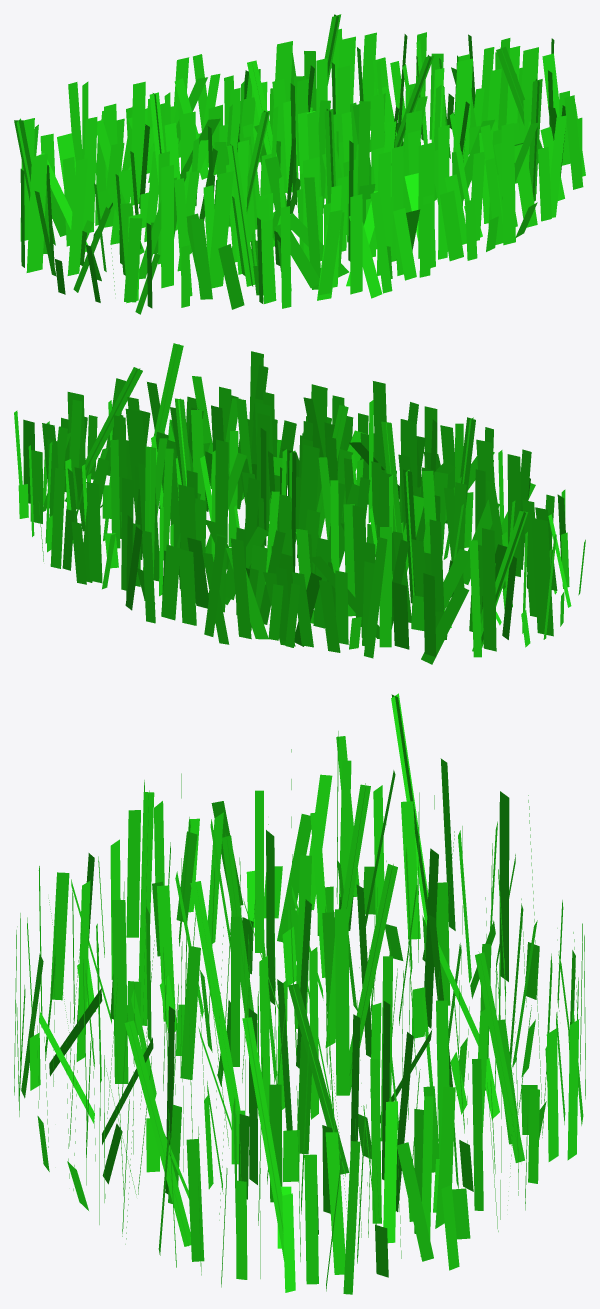
File: grass.obj
3 renders of one model, top to bottom at view 1: azimuth 30°, elevation 25°; view 2: azimuth 150°, elevation 25°; view 3: azimuth 270°, elevation 25°, orthographic. The views are drawn at different scales.
Parts seen in each view (by area): view 1: grass; view 2: grass; view 3: grass.
Part boxes in pixels (left/top/right/bottom): grass: left=14, top=14, right=585, bottom=314; grass: left=14, top=343, right=585, bottom=664; grass: left=14, top=693, right=585, bottom=1294.
Bounding box in the file's own units: 19.5 × 5.41 × 11.75.
